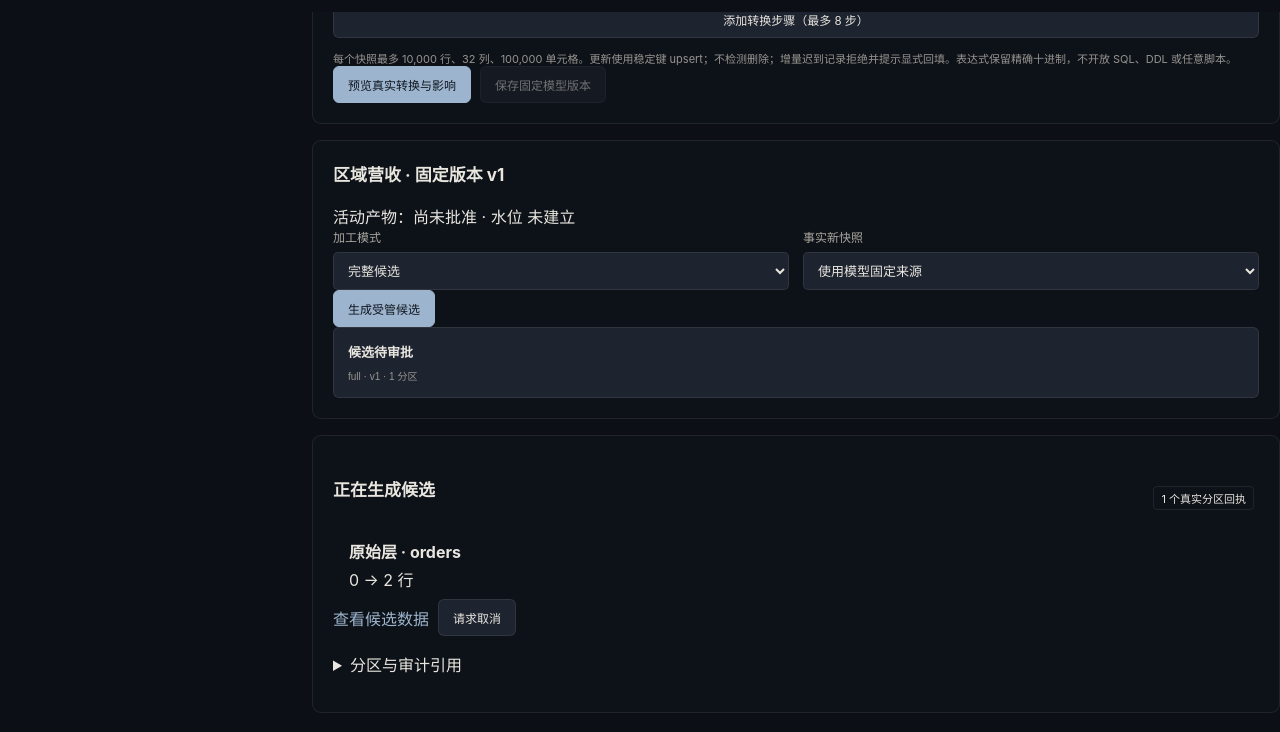
warehouse managed workflow › shows cancel_requested until the backend reports a terminal state
(page scrolled)
Click the button "请求取消": [477, 618] box [438, 599, 516, 636]
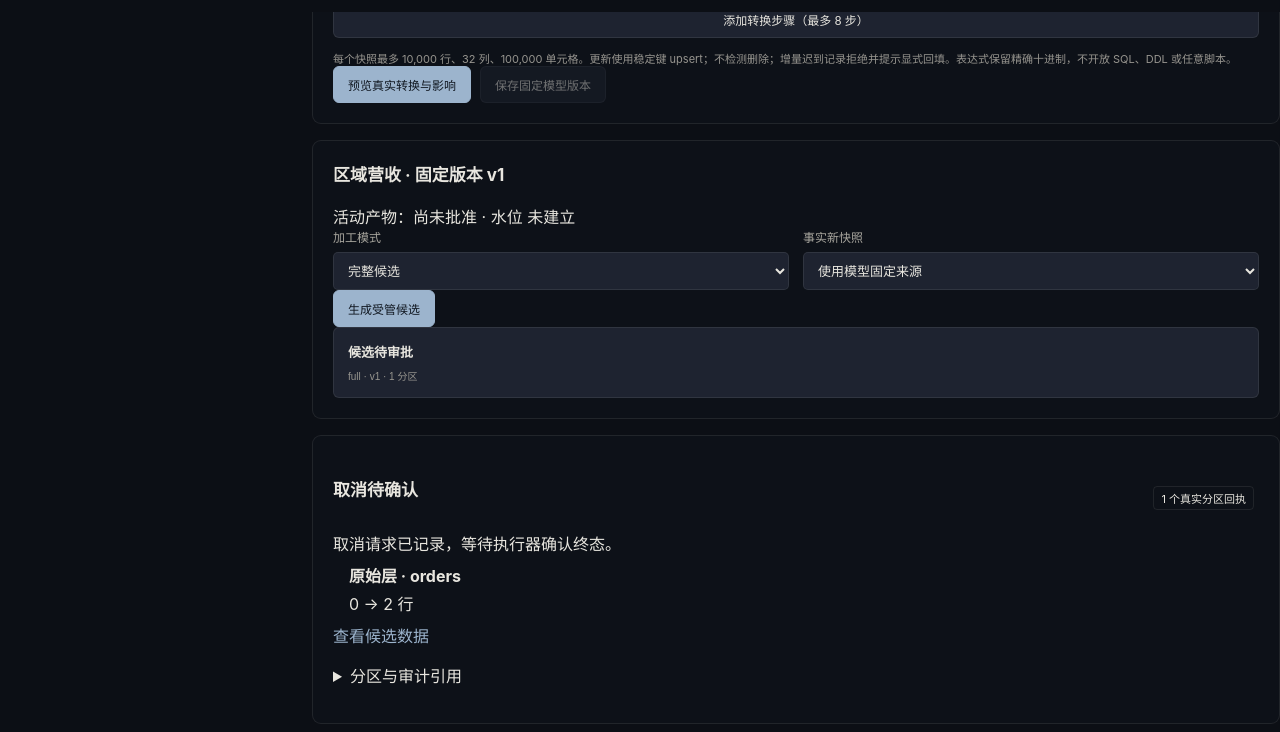
Check: the text "等待执行器确认终态" is shown, box [333, 534, 621, 554]
